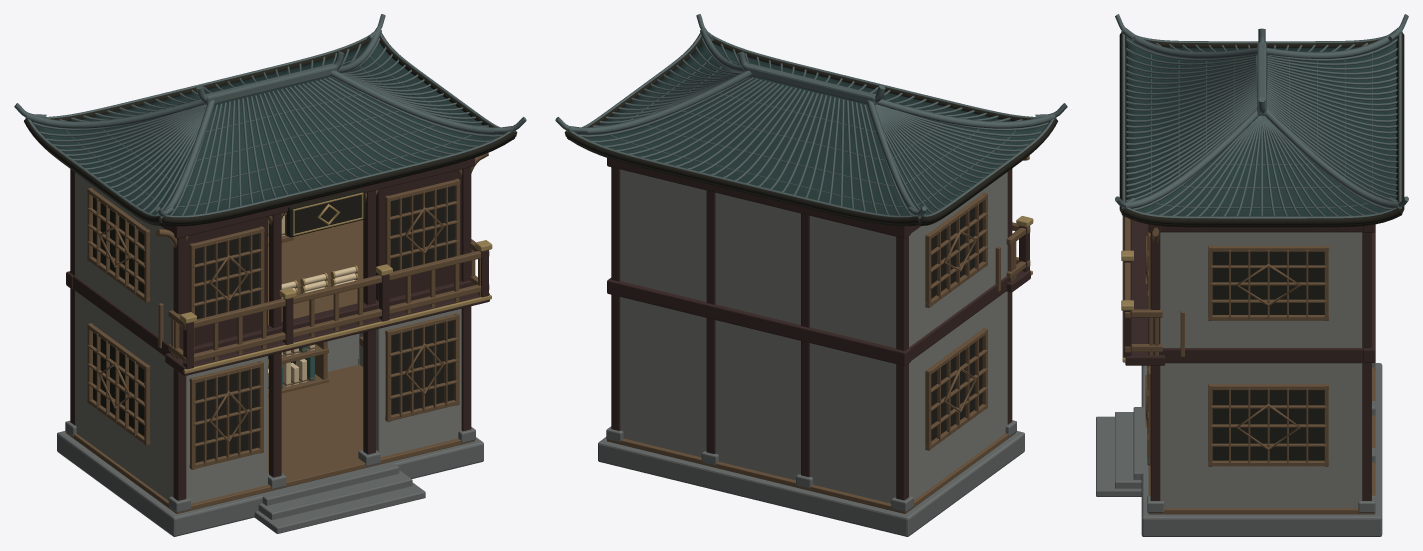
Rendered from library_tower.glb.
3 renders of one model, left to right at view 1: azimuth 30°, elevation 25°; view 2: azimuth 150°, elevation 25°; view 3: azimuth 270°, elevation 25°, orthographic. The views are drawn at different scales.
Visible parts, largest first — view 1: library_tower; view 2: library_tower; view 3: library_tower.
Boxes of the visible parts, box(x1,y1,x2,y2) form: library_tower: box(14, 14, 526, 536); library_tower: box(555, 14, 1067, 536); library_tower: box(1096, 14, 1408, 536).
Bounding box in the file's own units: 7 × 7 × 5.
1 material, 1 textured.
